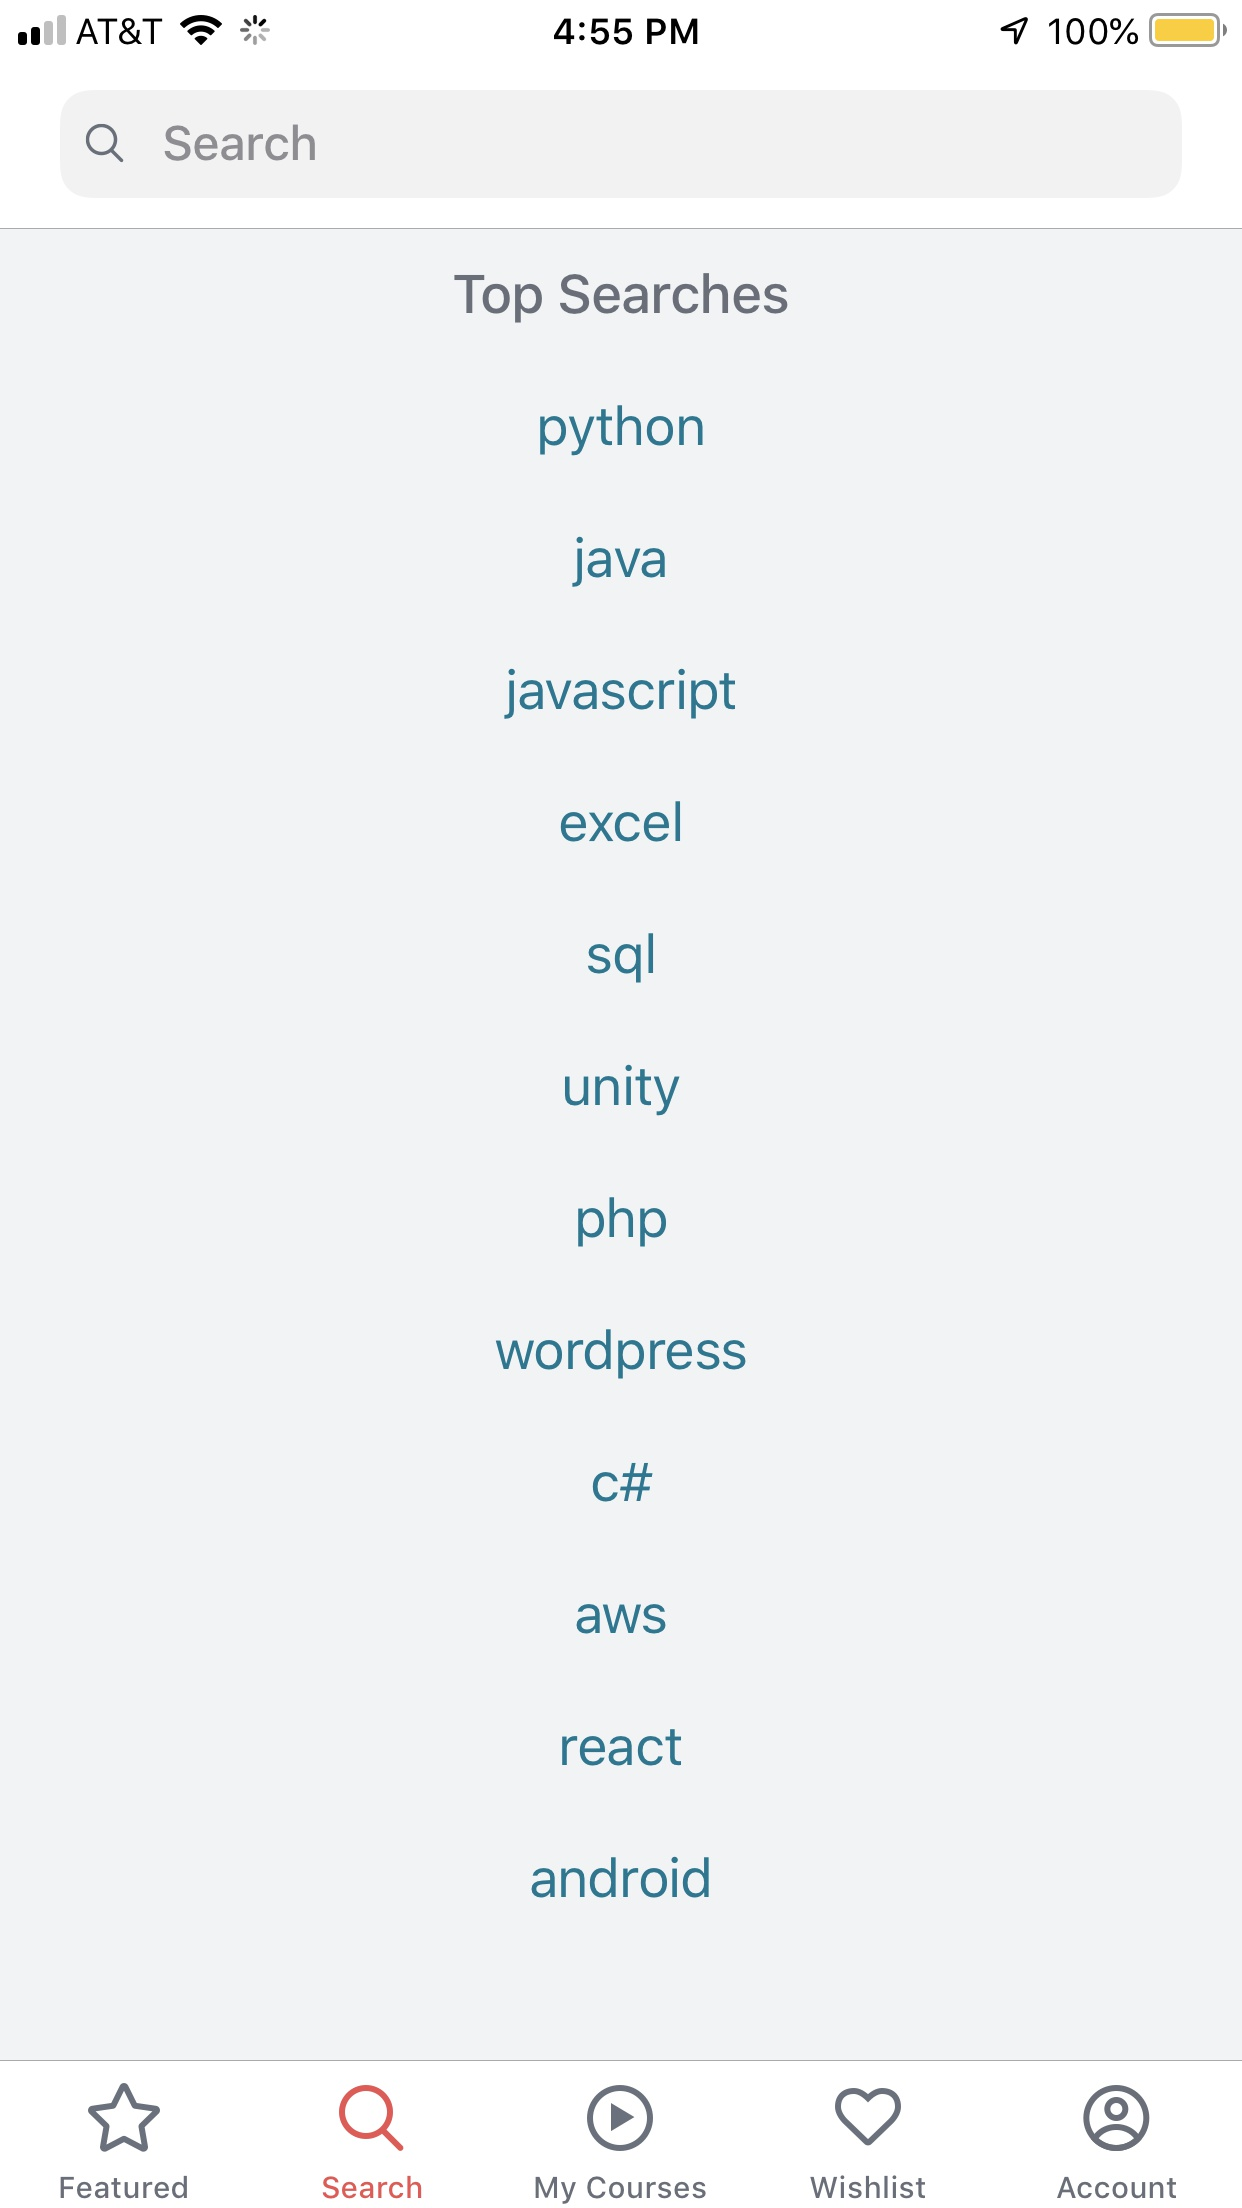EditText: (61, 89, 1181, 199)
Icon: (89, 2084, 162, 2153), (1083, 2084, 1151, 2150), (587, 2085, 654, 2152), (340, 2085, 405, 2152), (836, 2087, 902, 2146), (86, 124, 124, 162)
Text: (453, 273, 789, 325), (496, 1328, 748, 1380), (503, 667, 735, 720), (540, 405, 704, 456), (531, 1856, 710, 1899), (566, 1065, 681, 1118), (165, 124, 315, 162), (561, 801, 681, 843), (535, 2175, 707, 2203), (572, 537, 666, 588), (563, 1727, 682, 1767), (578, 1197, 667, 1248), (588, 933, 654, 984), (61, 2175, 188, 2199), (810, 2175, 927, 2199), (576, 1604, 667, 1635), (1055, 2176, 1175, 2199), (323, 2175, 423, 2199), (593, 1462, 654, 1501)
UpperTaskBar: (2, 2, 1242, 49)
